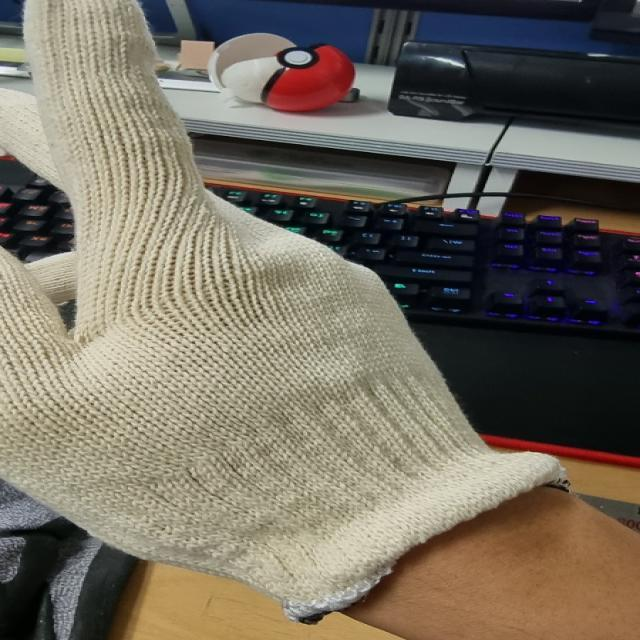Gloves: (0, 0, 553, 605)
